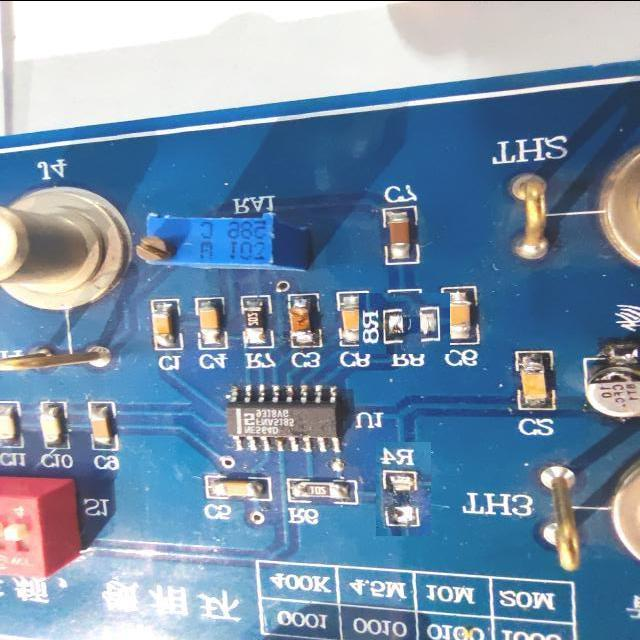miss_welding: (366, 286, 443, 362), (376, 442, 431, 536)
